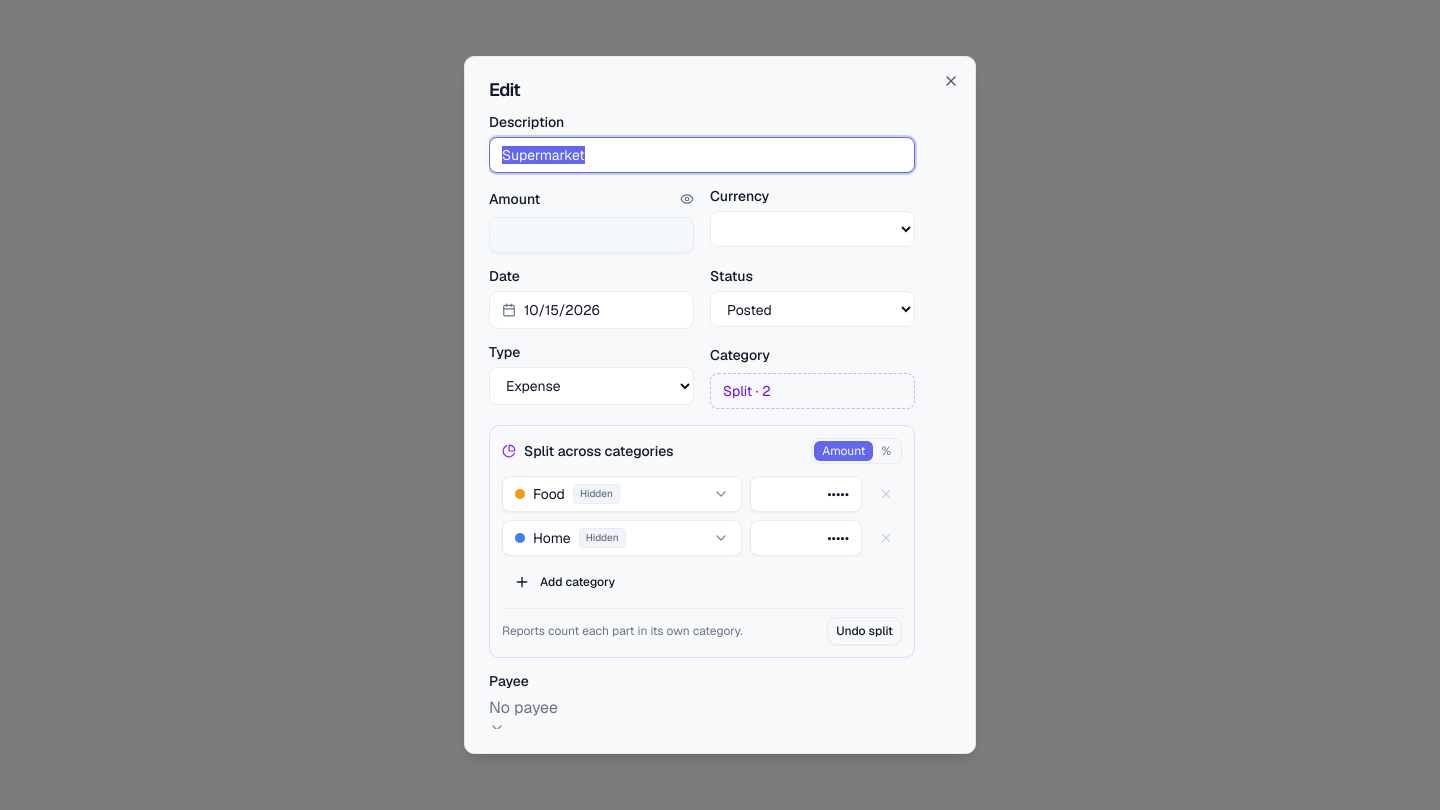
Scenario: undoing a split sends an empty list and keeps the largest part as the category
Later steps or results of the test are not shown.
Click the button "Undo split" at (865, 631), box [827, 617, 902, 645]
(page scrolled)
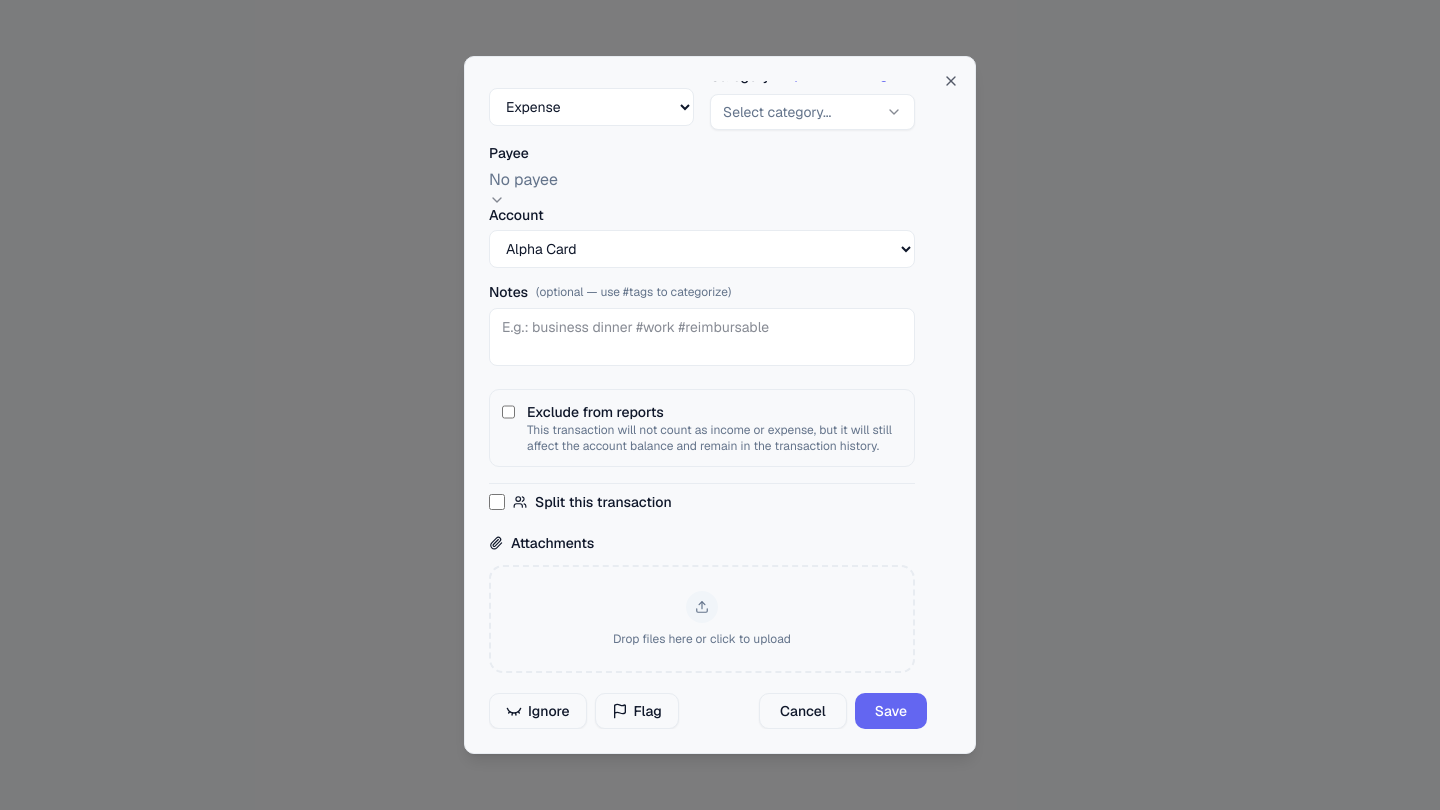
Check: the button "Undo split" is gone
